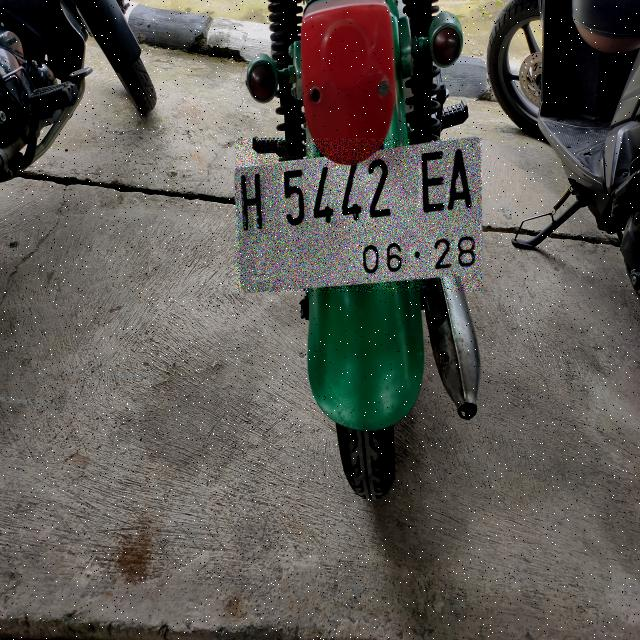plate: (235, 138, 481, 291)
